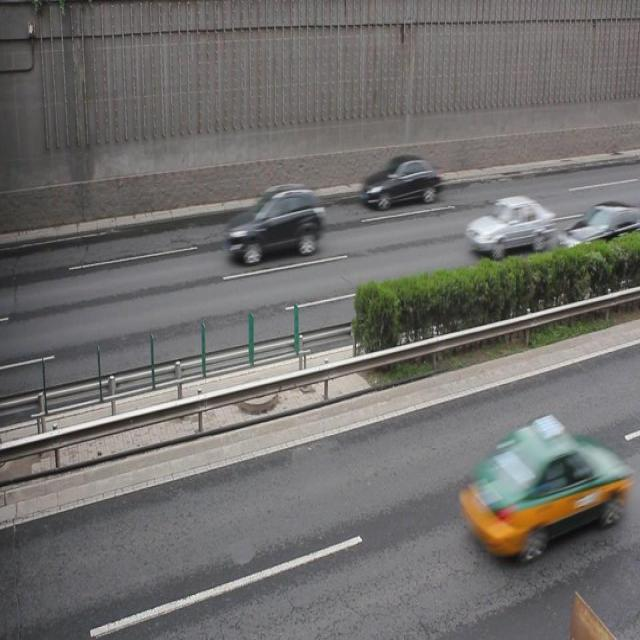car: (456, 415, 606, 559), (228, 182, 324, 264), (465, 194, 550, 255), (556, 203, 640, 261), (362, 155, 438, 210)
